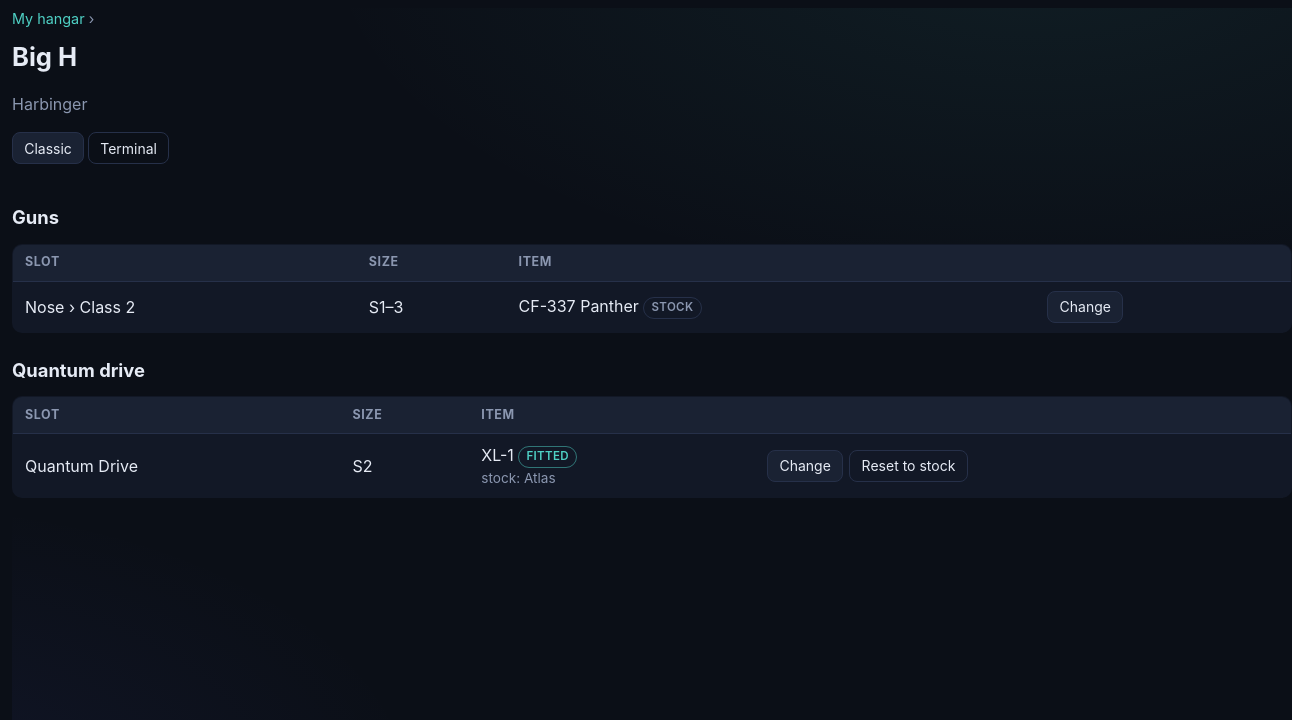
ShipDetailPage › groups slots by type with stock/fitted badges, and resets a fitted slot
The width and height of the screenshot is (1292, 720).
expect the heading "Big H" is shown: met, box [12, 41, 77, 72]
expect the headings read "Guns", "Quantum drive", in this order: met, box [12, 206, 59, 228]; [12, 358, 145, 380]
Click the button "Reset to stock". click: (908,466)
box: [849, 450, 968, 482]
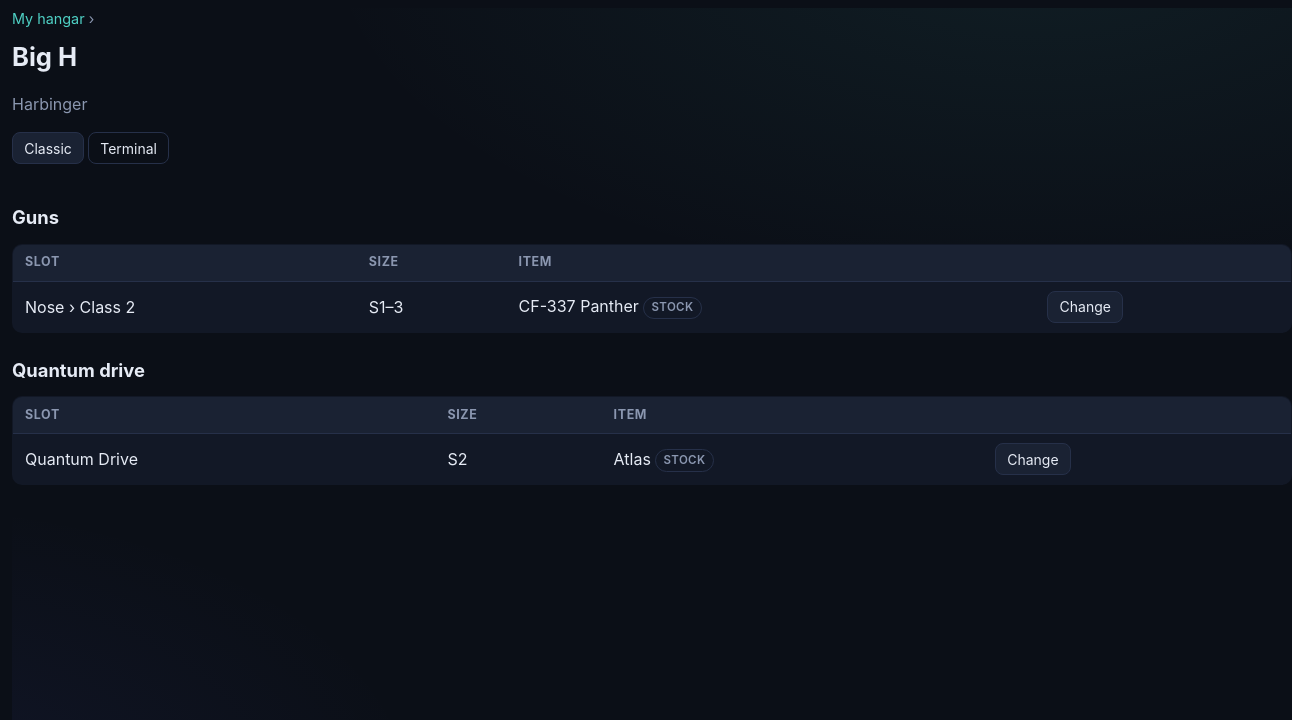
expect the text "Atlas" is shown: met, box [614, 449, 651, 469]
